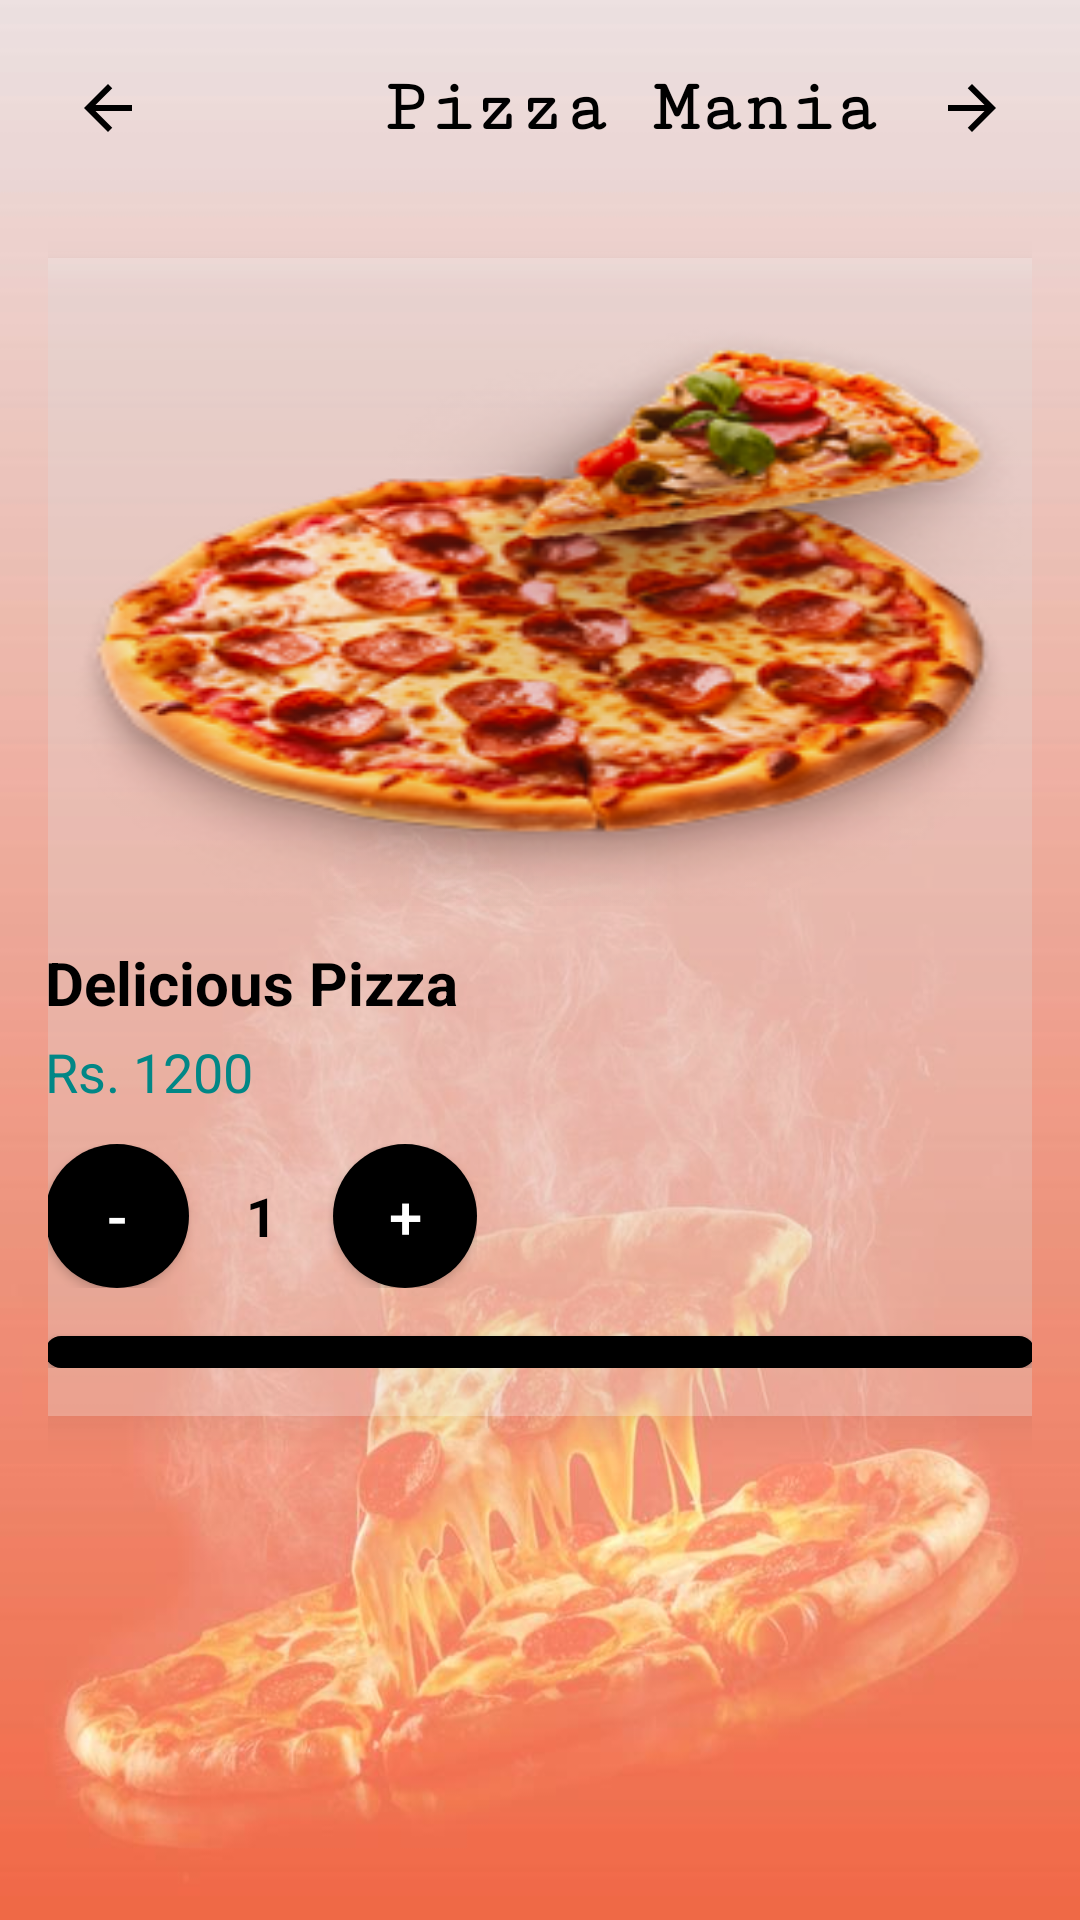

Icon bounding boxes for this 1080px×1920px phone screenshot, format (x1, y1, x2, y2):
Back: (84, 84, 132, 132)
Next: (948, 84, 996, 132)
